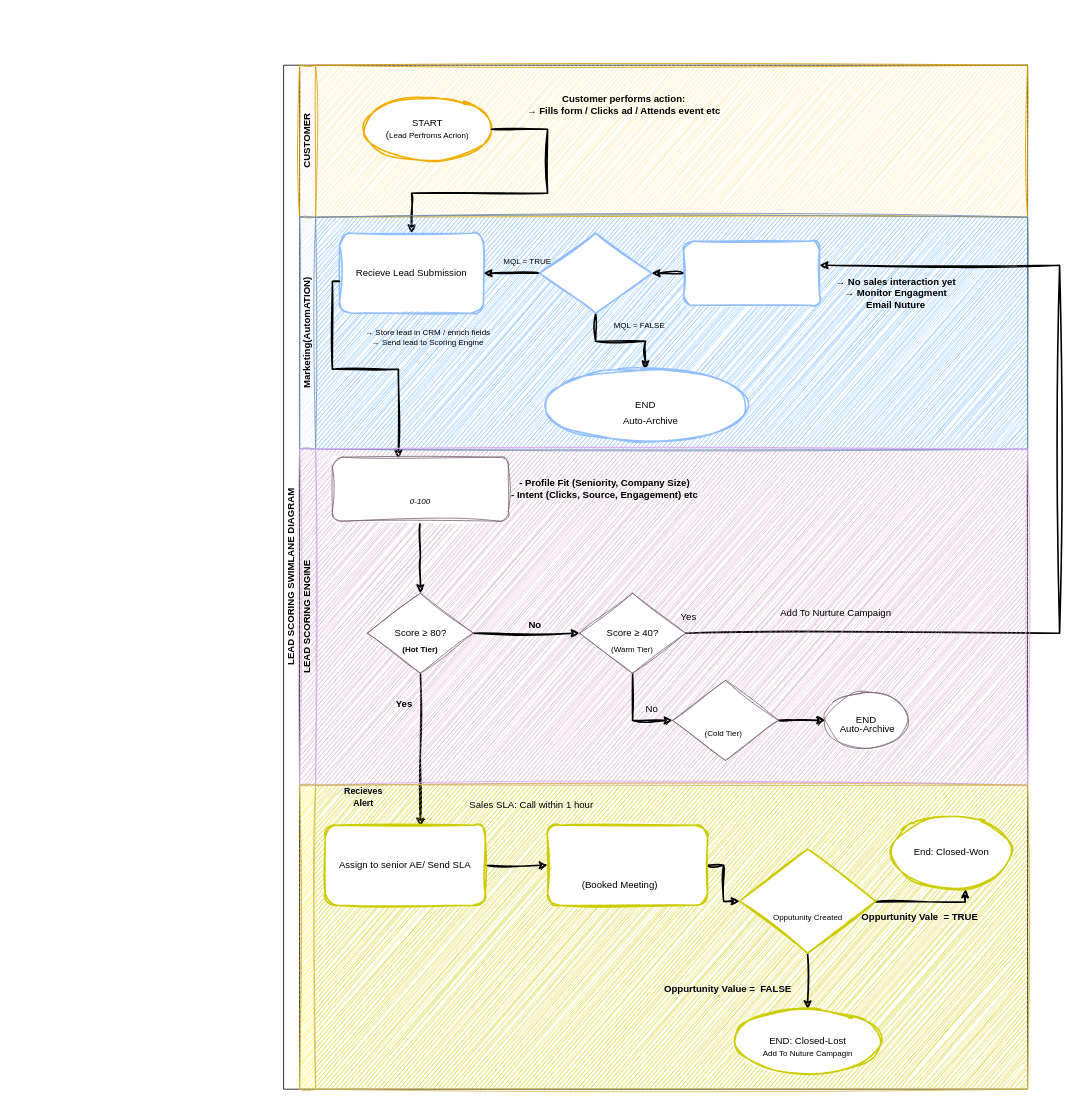
This 1080x1103 diagram has some shape labels left out. The shapes that lost their labels are listed below. From the top down, each one's box as (x1, y1, x2, y2) in pixels, then its label:
(538, 232, 652, 314): MQL
(682, 240, 820, 306): Nuture Sequence
(332, 456, 508, 521): Calculate Lead Score
(672, 680, 779, 760): Score ≥ 20?
(546, 824, 708, 906): Meeting & Opputrunity Creation
(738, 848, 876, 954): Deal Outcome
(299, 784, 1028, 1089): SALES TEAM
